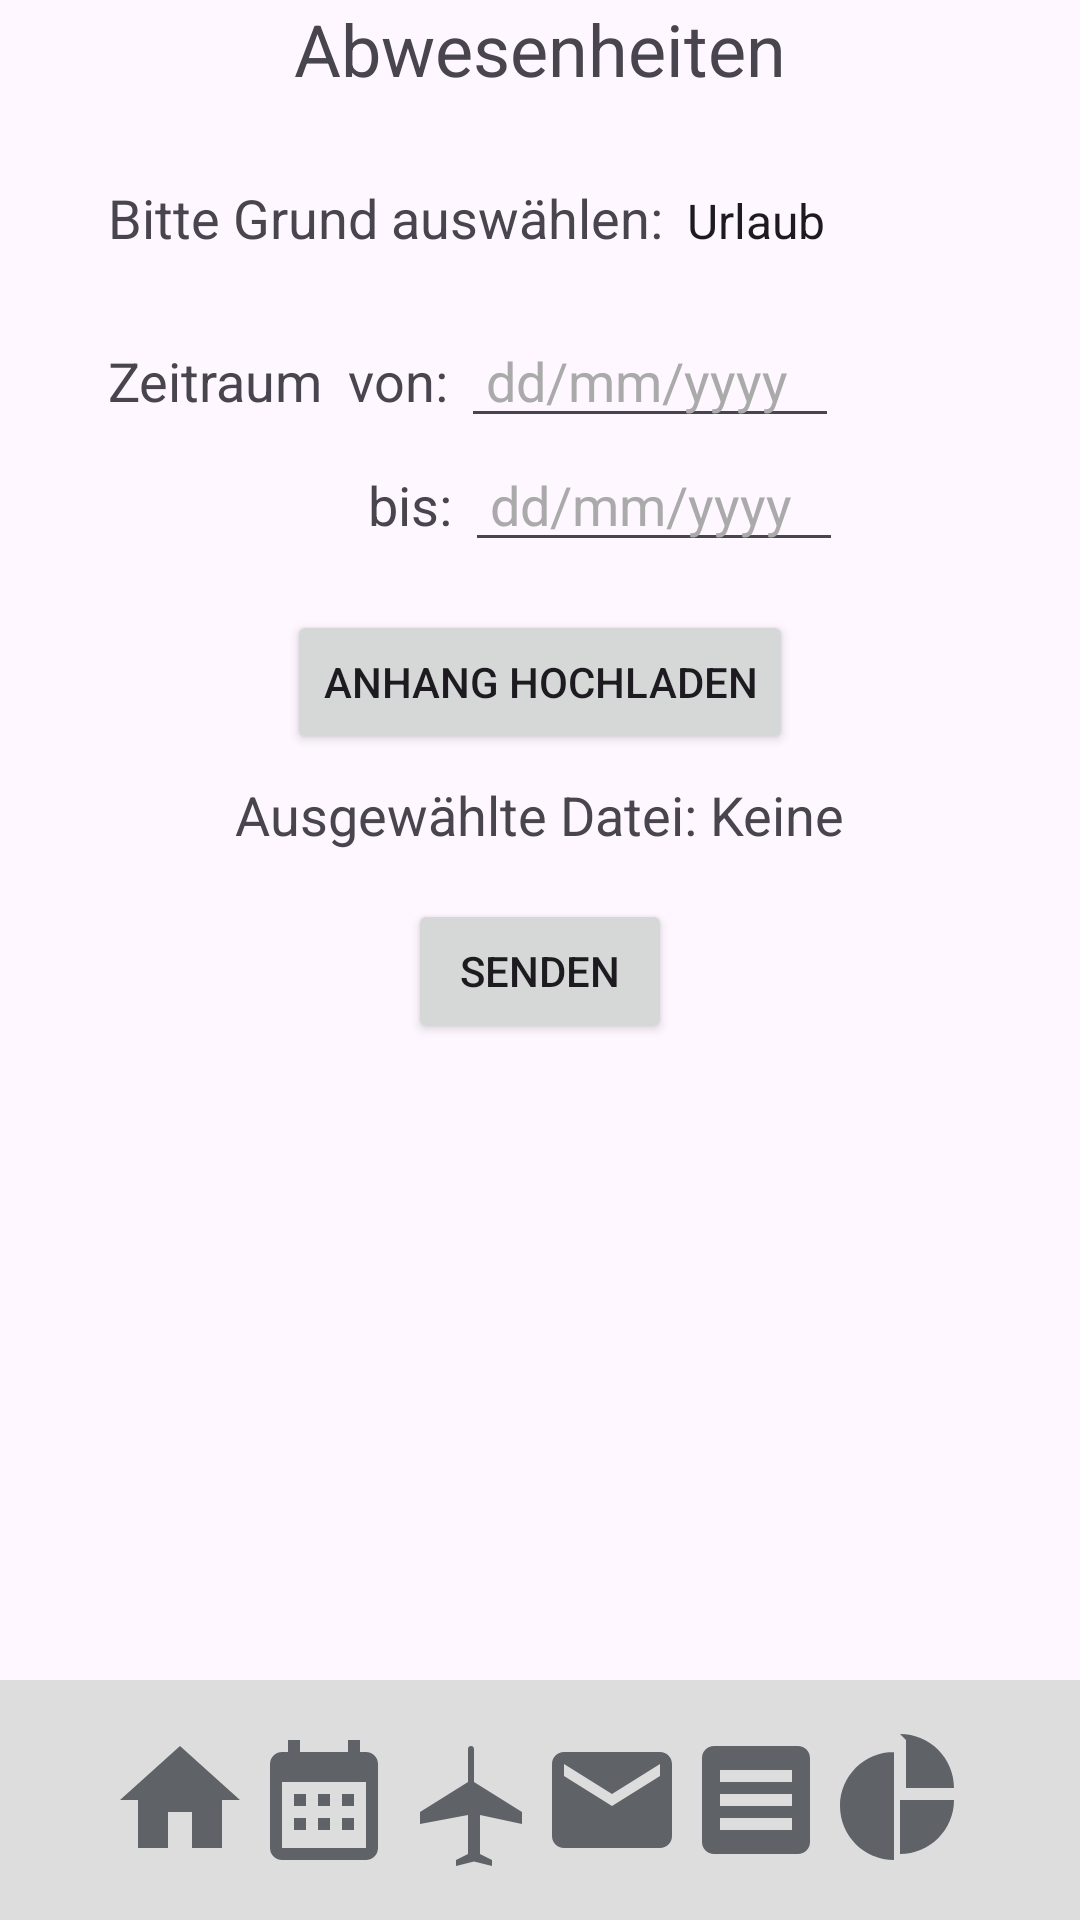

Named icons in this screenshot (1080px x 1920px) and their centers, (x=x, y=y):
Absences: (x=471, y=1806)
Home: (x=180, y=1797)
Messages: (x=612, y=1800)
Reports: (x=756, y=1800)
Statistics: (x=897, y=1797)
Work Hours: (x=324, y=1800)
